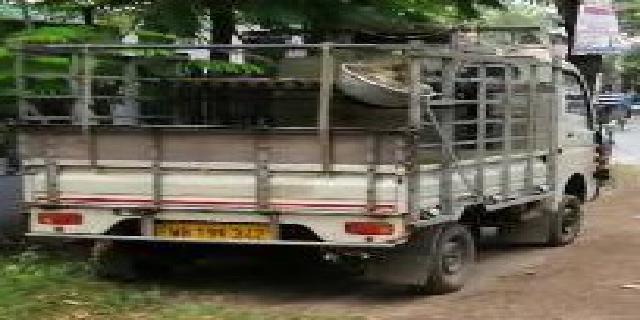Minitruck: (13, 25, 614, 292)
